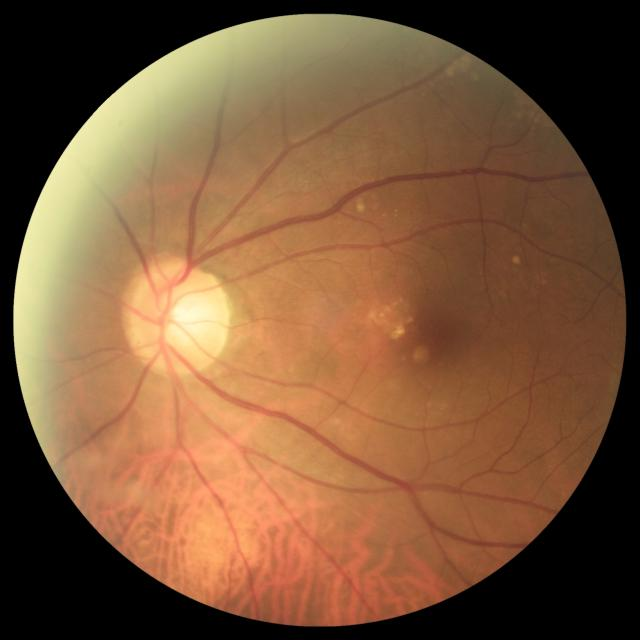OC: (157, 290, 206, 346)
OD: (120, 257, 232, 374)
